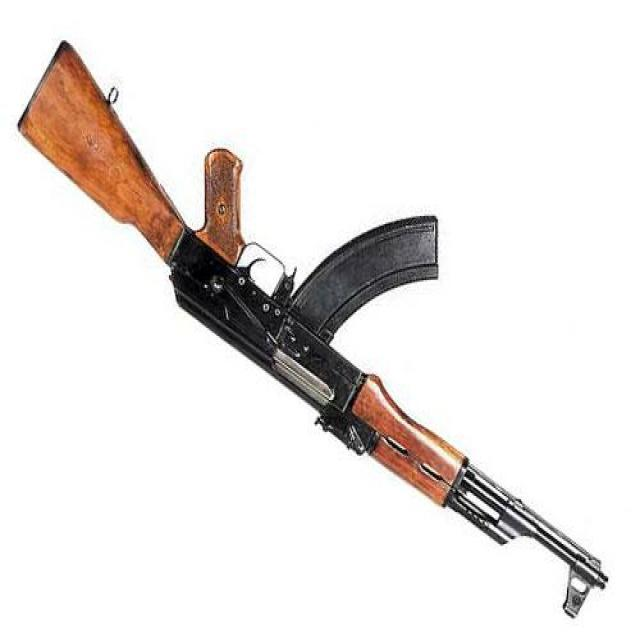weapon: (15, 38, 610, 620)
